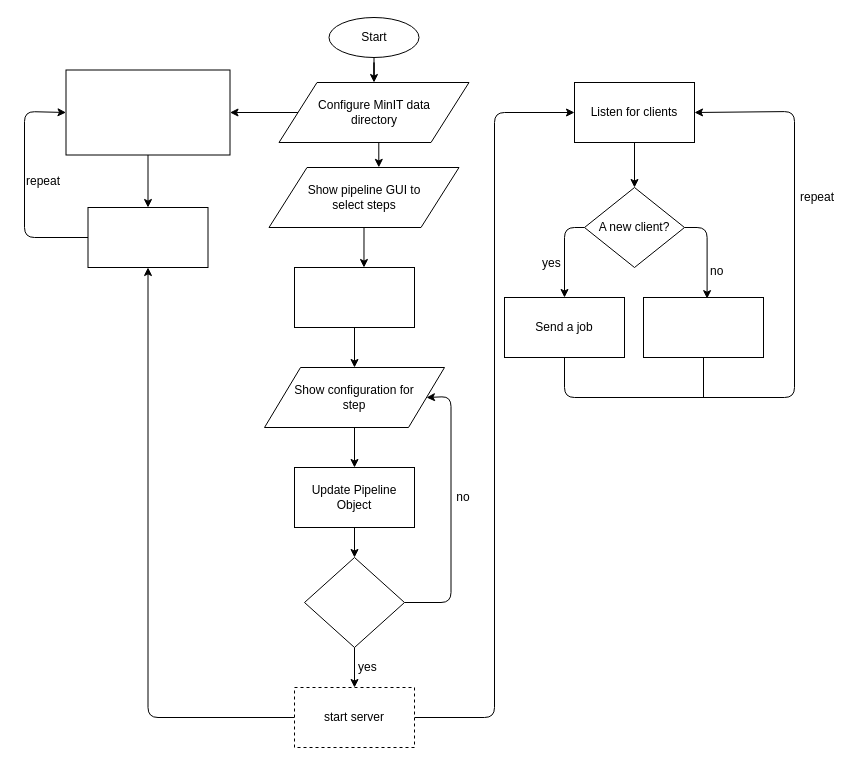
Image size: 866x765. Some labels were removed from this diagram. Each missing label, with the box of its shape:
all steps configured?: (304, 556, 404, 648)
Create Pipeline Object: (294, 266, 414, 328)
List Jobs: (87, 206, 208, 268)
Listen for new data sets written as the sequencing happens: (65, 69, 230, 155)
Update job status: (642, 296, 764, 358)
